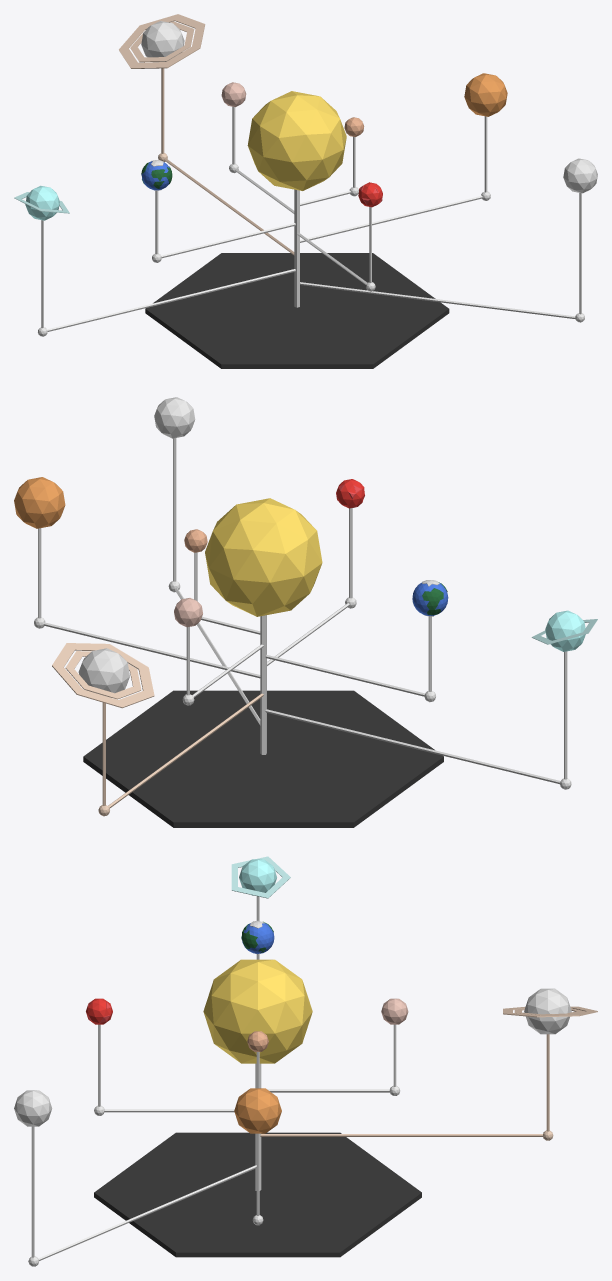
The model's file is solarsystem_element.fbx.
The picture shows the model from 3 angles, top to bottom: view 1: azimuth 30°, elevation 25°; view 2: azimuth 150°, elevation 25°; view 3: azimuth 270°, elevation 25°; orthographic projection. The views are drawn at different scales.
Parts seen in each view (by area): view 1: bottom_plate, sun, saturn, jupiter, uranus, neptune, earth, mars, venus, mercury, middle rod; view 2: bottom_plate, sun, saturn, uranus, jupiter, neptune, earth, mars, venus, middle rod, mercury; view 3: bottom_plate, sun, saturn, neptune, jupiter, uranus, mars, venus, earth.
Part boxes in pixels (x1,y1,x2,y2): bottom_plate: (145, 253, 449, 368); sun: (247, 91, 346, 190); saturn: (119, 14, 294, 255); jupiter: (300, 73, 507, 242); uranus: (14, 185, 295, 336); neptune: (300, 158, 597, 322); earth: (141, 160, 295, 262); mars: (297, 182, 382, 291); venus: (221, 82, 294, 213); mercury: (300, 117, 364, 205); middle rod: (294, 189, 299, 307); bottom_plate: (83, 690, 443, 827); sun: (205, 498, 322, 616); saturn: (52, 643, 263, 816); uranus: (265, 610, 597, 789); jupiter: (14, 477, 260, 678); neptune: (154, 397, 260, 725); earth: (265, 580, 448, 702); mars: (267, 479, 364, 665); venus: (174, 598, 263, 705); middle rod: (260, 615, 266, 754); mercury: (184, 529, 260, 634); bottom_plate: (94, 1132, 421, 1257); sun: (203, 959, 312, 1063); saturn: (260, 988, 597, 1140); neptune: (14, 1090, 256, 1266); jupiter: (234, 1088, 281, 1225); uranus: (231, 856, 290, 920); mars: (86, 998, 234, 1115); venus: (267, 998, 408, 1095); earth: (241, 920, 274, 959).
Bounding box in the file's own units: 2766 × 1187 × 2669.
